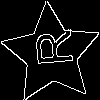R: (26, 28, 74, 68)
